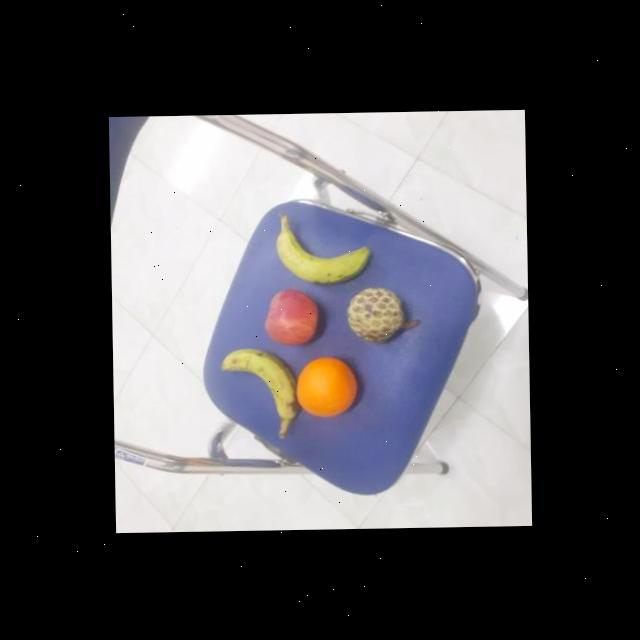Sakya fruit: (346, 285, 404, 347)
apple: (264, 286, 322, 346)
banana: (272, 222, 373, 285), (218, 344, 296, 420)
orange: (296, 358, 358, 420)
